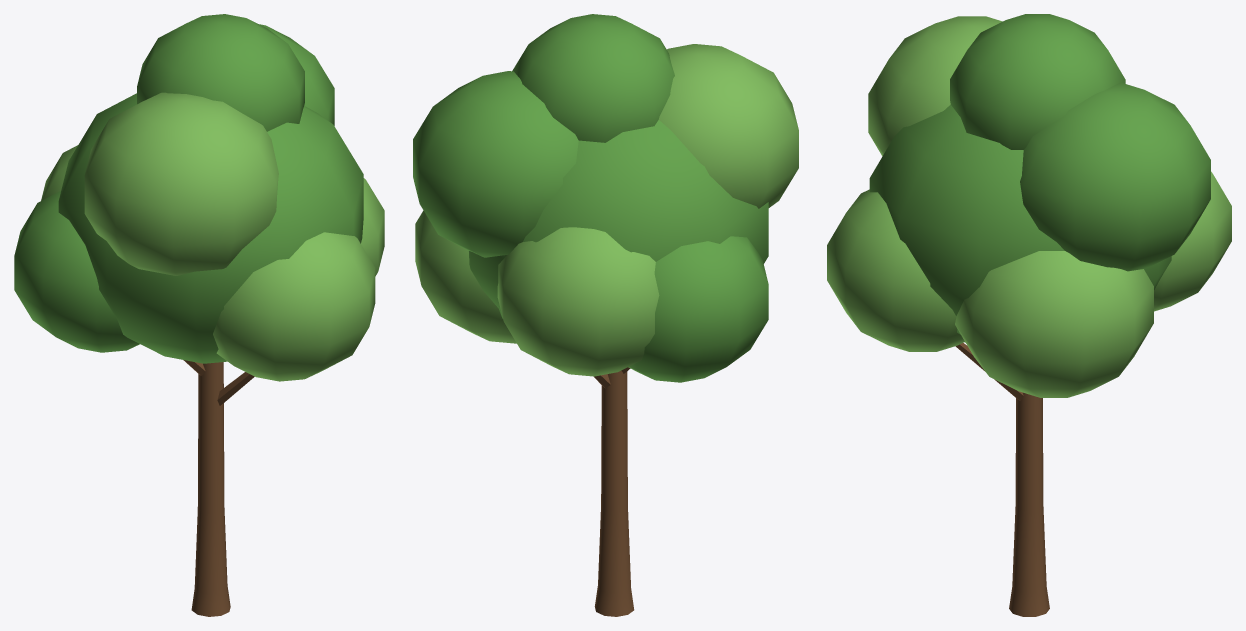
File: tree_oak.glb
3 views of the same model, side by side, from view 1: azimuth 30°, elevation 25°; view 2: azimuth 150°, elevation 25°; view 3: azimuth 270°, elevation 25° (orthographic). The views are drawn at different scales.
Visible parts, largest first — view 1: body; view 2: body; view 3: body.
Boxes of the visible parts, <box> form: body: <box>14,14,384,616</box>; body: <box>413,14,798,616</box>; body: <box>827,14,1231,616</box>.
Size of the model in its own units: 477 by 799 by 494.
